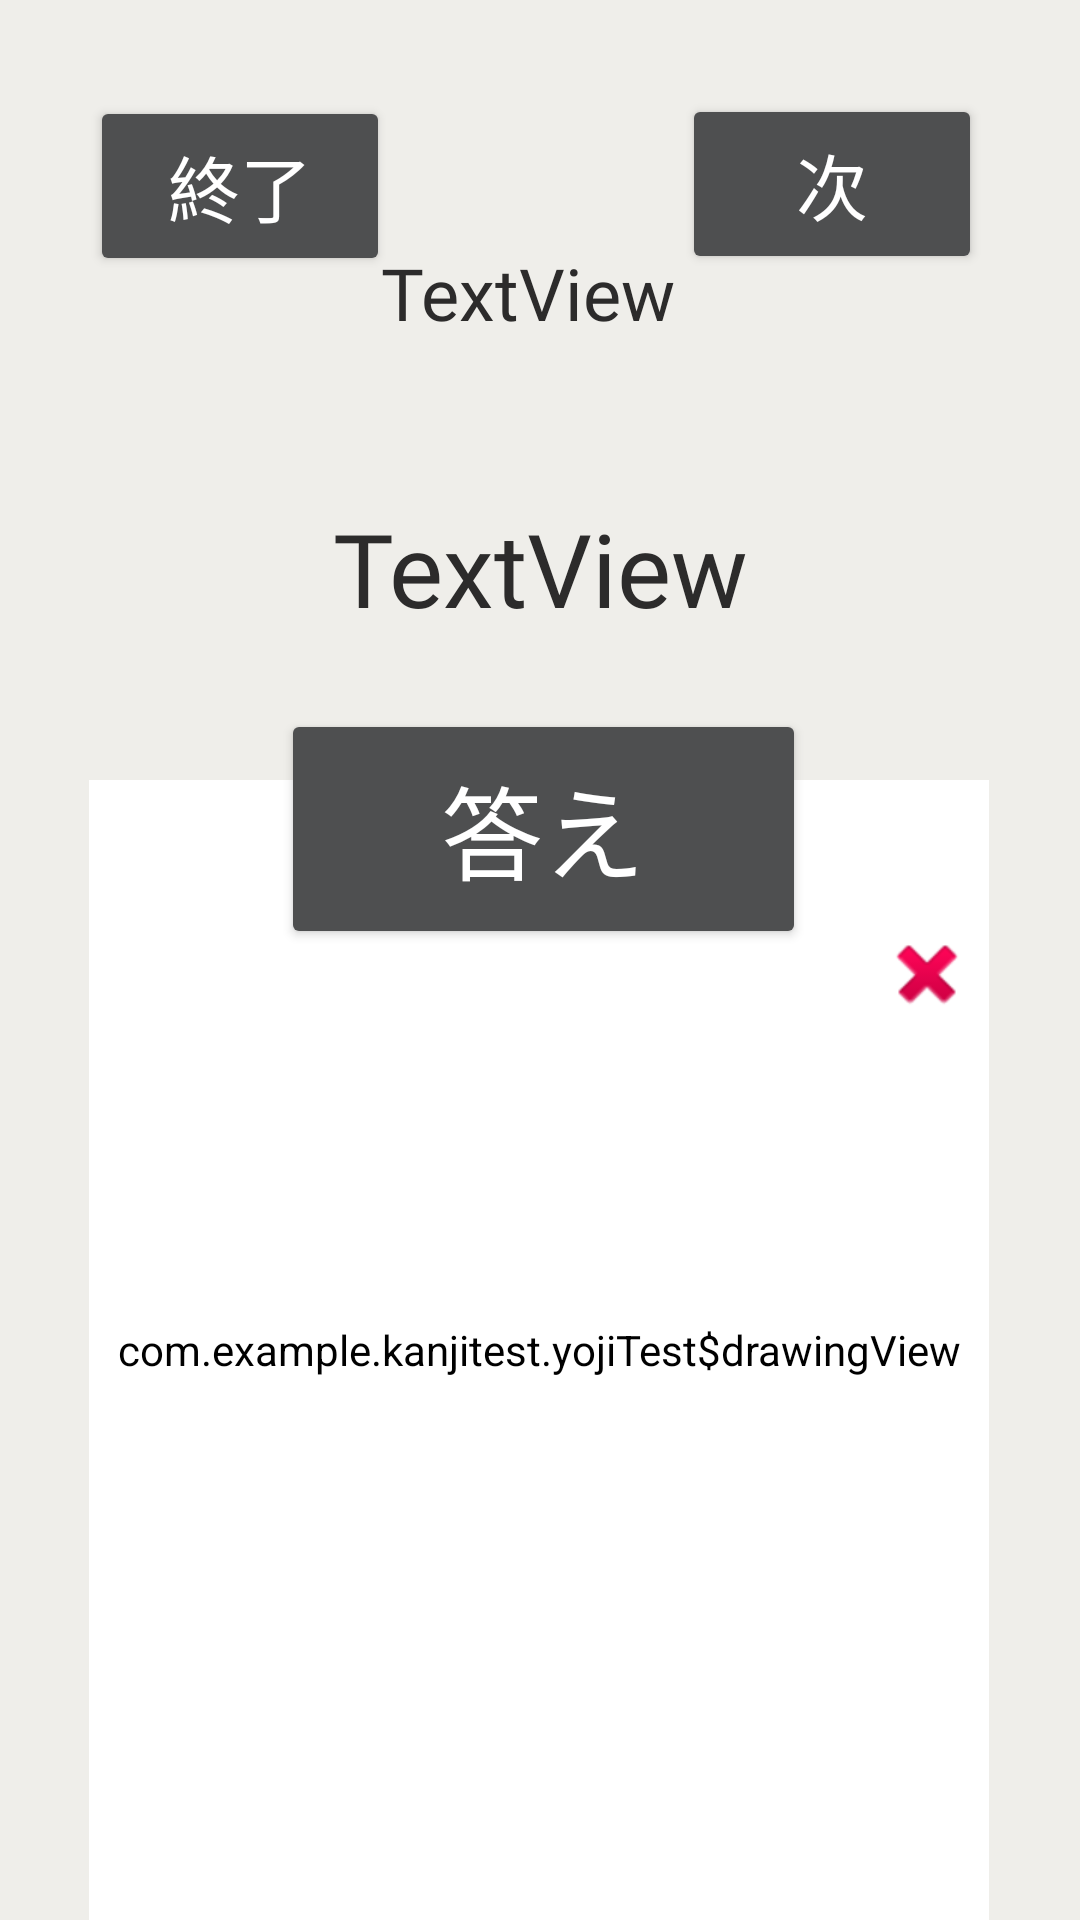

Icons on this 1080px x 1920px Android screen, each with the point to tap as (x=x, y=y):
delete: (x=927, y=974)
